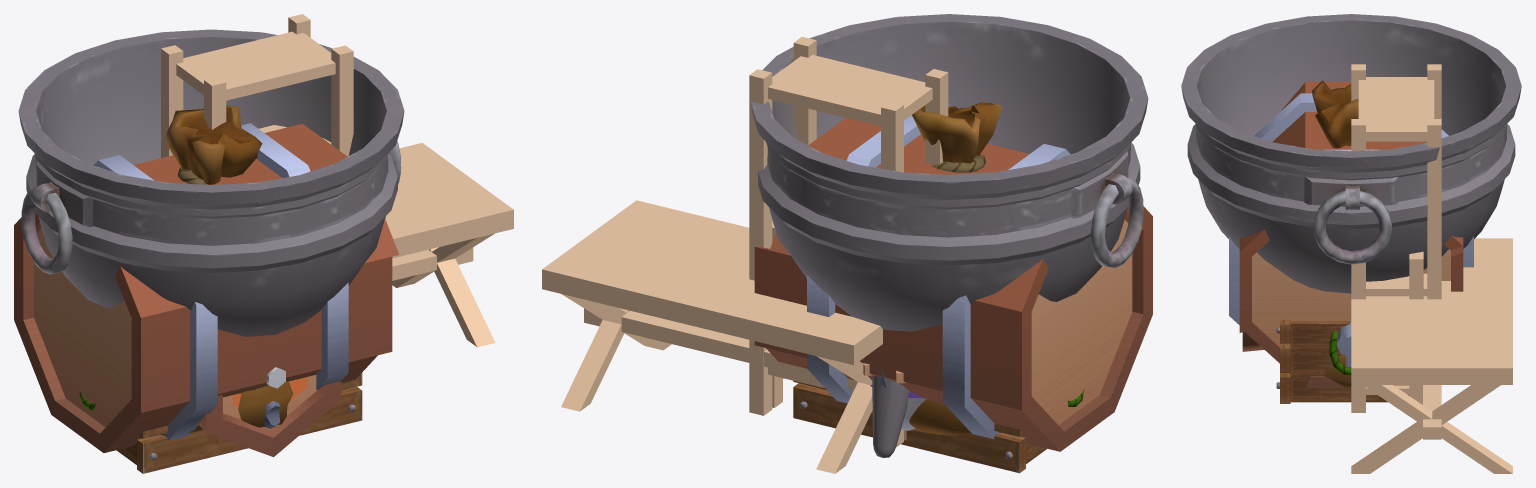
File: dining-kit-v53.glb
3 views of the same model, side by side, from view 1: azimuth 30°, elevation 25°; view 2: azimuth 150°, elevation 25°; view 3: azimuth 270°, elevation 25° (orthographic). The views are drawn at different scales.
Parts seen in each view (by area): view 1: Cauldron, barrel, tableCross(Clone), bookcaseOpen(Clone), Bag, whole-ham, FarmCrate_Apple; view 2: Cauldron, barrel, tableCross(Clone), bookcaseOpen(Clone), FarmCrate_Apple, Bag; view 3: Cauldron, tableCross(Clone), barrel, bookcaseOpen(Clone), FarmCrate_Apple, Bag, bench(Clone).
Boxes of the visible parts, x1=… form: Cauldron: x1=18, y1=29, x2=404, y2=436; barrel: x1=14, y1=123, x2=399, y2=452; tableCross(Clone): x1=385, y1=143, x2=513, y2=347; bookcaseOpen(Clone): x1=161, y1=14, x2=353, y2=157; Bag: x1=161, y1=105, x2=293, y2=435; whole-ham: x1=198, y1=367, x2=341, y2=457; FarmCrate_Apple: x1=79, y1=373, x2=362, y2=473; Cauldron: x1=750, y1=14, x2=1148, y2=457; barrel: x1=754, y1=115, x2=1152, y2=451; tableCross(Clone): x1=542, y1=200, x2=882, y2=473; bookcaseOpen(Clone): x1=749, y1=36, x2=948, y2=447; FarmCrate_Apple: x1=793, y1=380, x2=1084, y2=473; Bag: x1=871, y1=102, x2=1002, y2=435; Cauldron: x1=1181, y1=14, x2=1521, y2=293; tableCross(Clone): x1=1351, y1=238, x2=1512, y2=473; barrel: x1=1229, y1=81, x2=1473, y2=387; bookcaseOpen(Clone): x1=1351, y1=64, x2=1441, y2=412; FarmCrate_Apple: x1=1276, y1=320, x2=1409, y2=403; Bag: x1=1259, y1=80, x2=1368, y2=388; bench(Clone): x1=1351, y1=251, x2=1423, y2=412.
Size of the model in its own units: 1.35 by 0.896 by 0.944.
7 materials, 6 textured.
